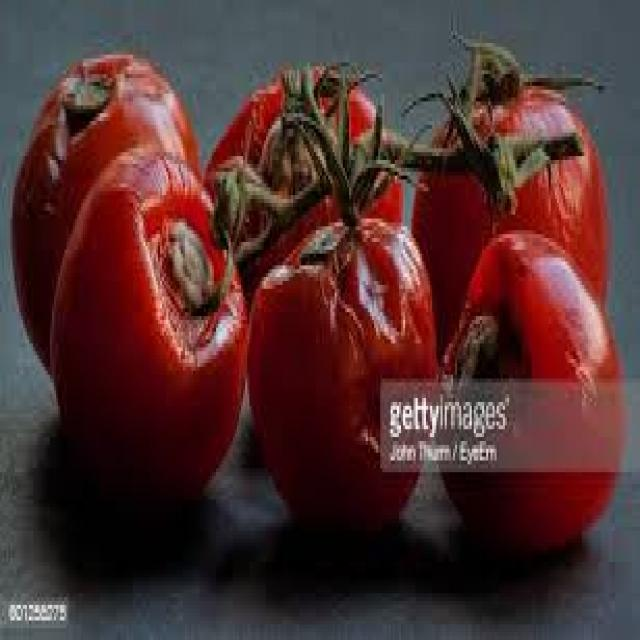organic waste: (243, 94, 436, 519), (48, 140, 243, 500), (401, 23, 607, 328), (11, 47, 198, 382), (436, 230, 620, 558), (204, 59, 403, 292)
